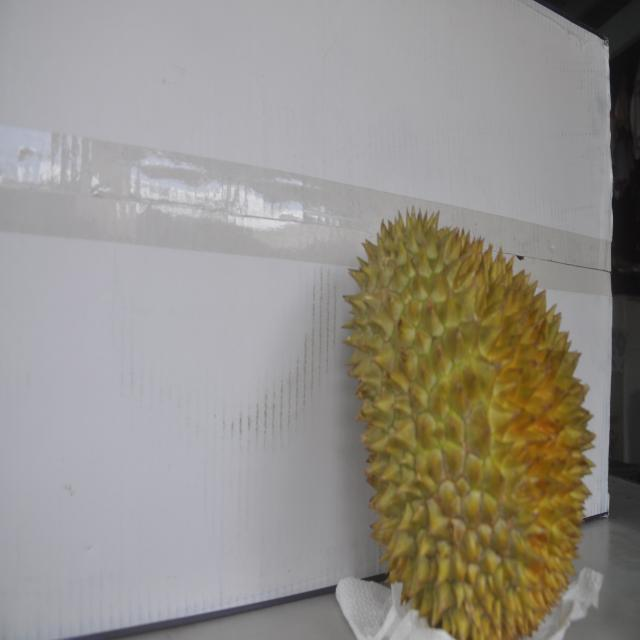mature: (342, 205, 600, 638)
